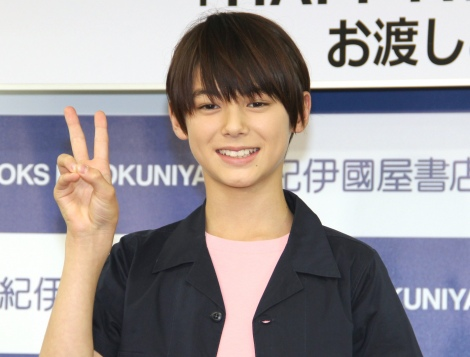face: (168, 64, 311, 189)
hand: (53, 105, 119, 232)
